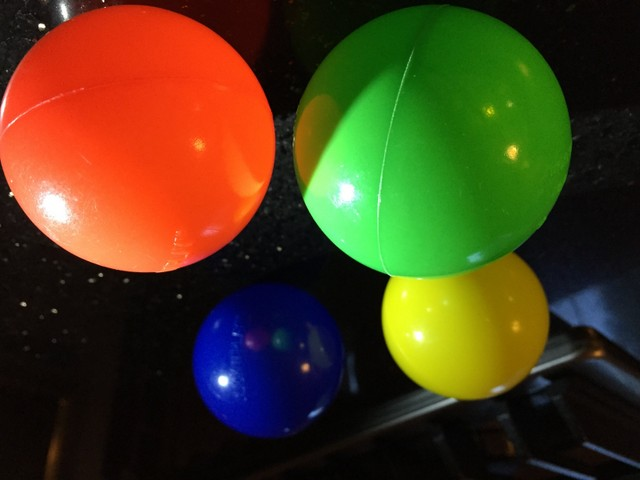ball: (378, 247, 548, 398)
